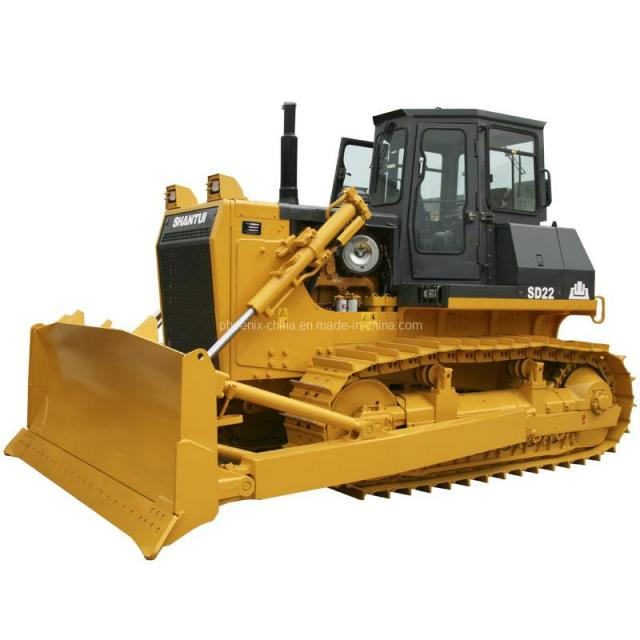Bulldozer: (8, 67, 639, 556)
